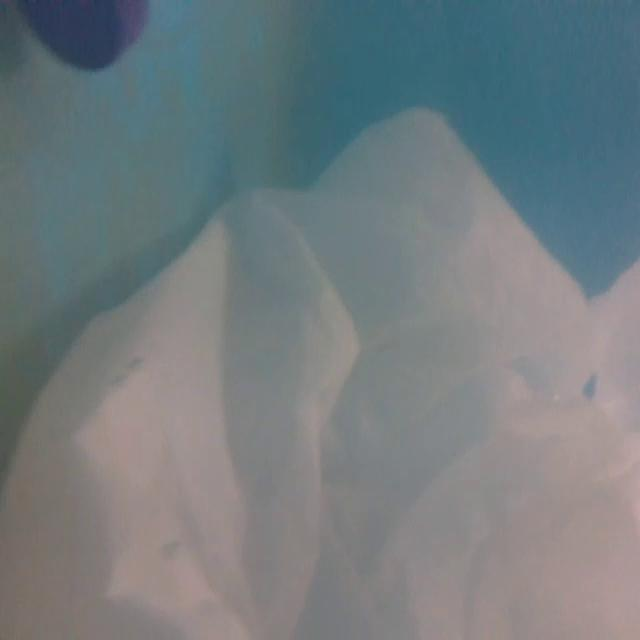plastic bags: (3, 99, 640, 638)
